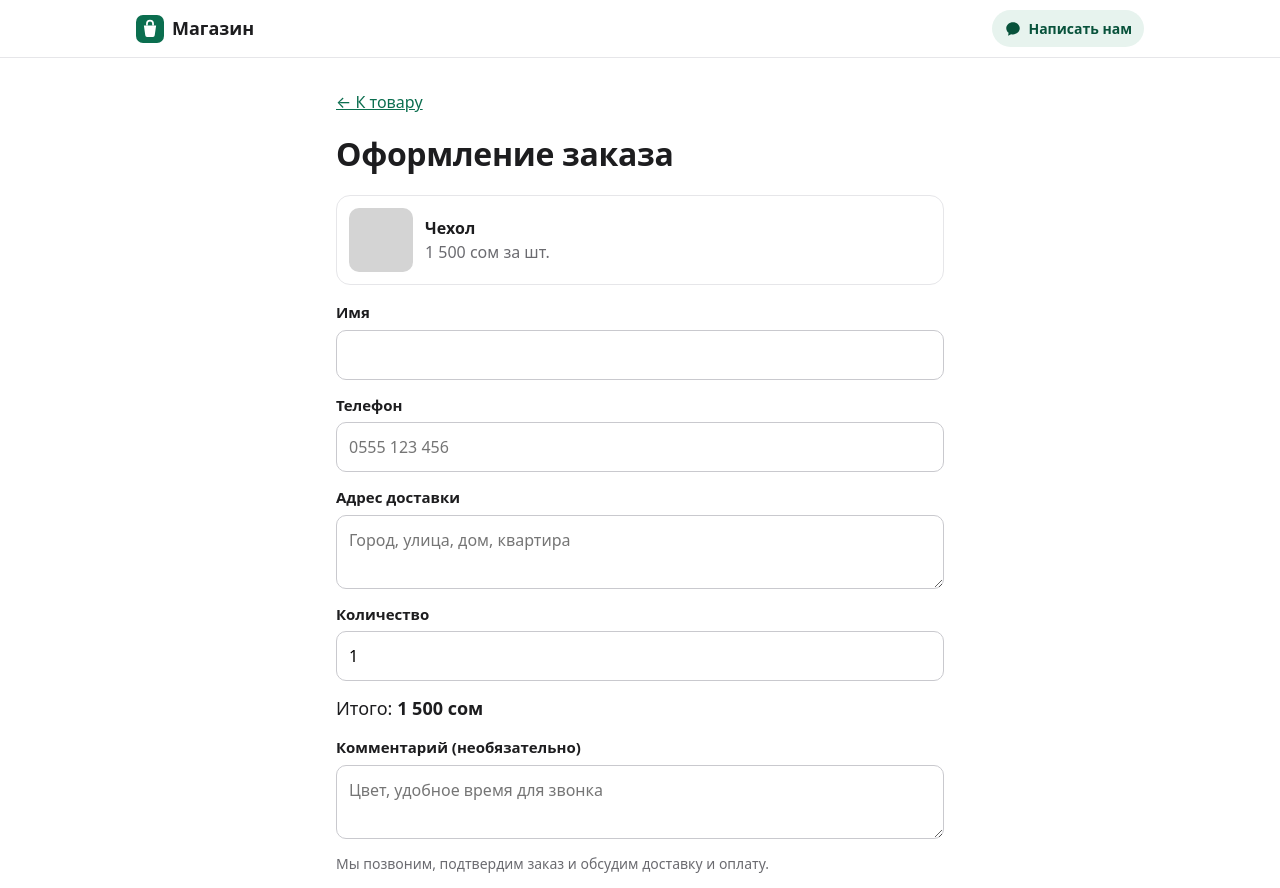
Test: итог пересчитывается при смене количества
Replace the text in the number field labelled "Количество" with "3" at coordinates (640, 656), box [336,631,944,681]
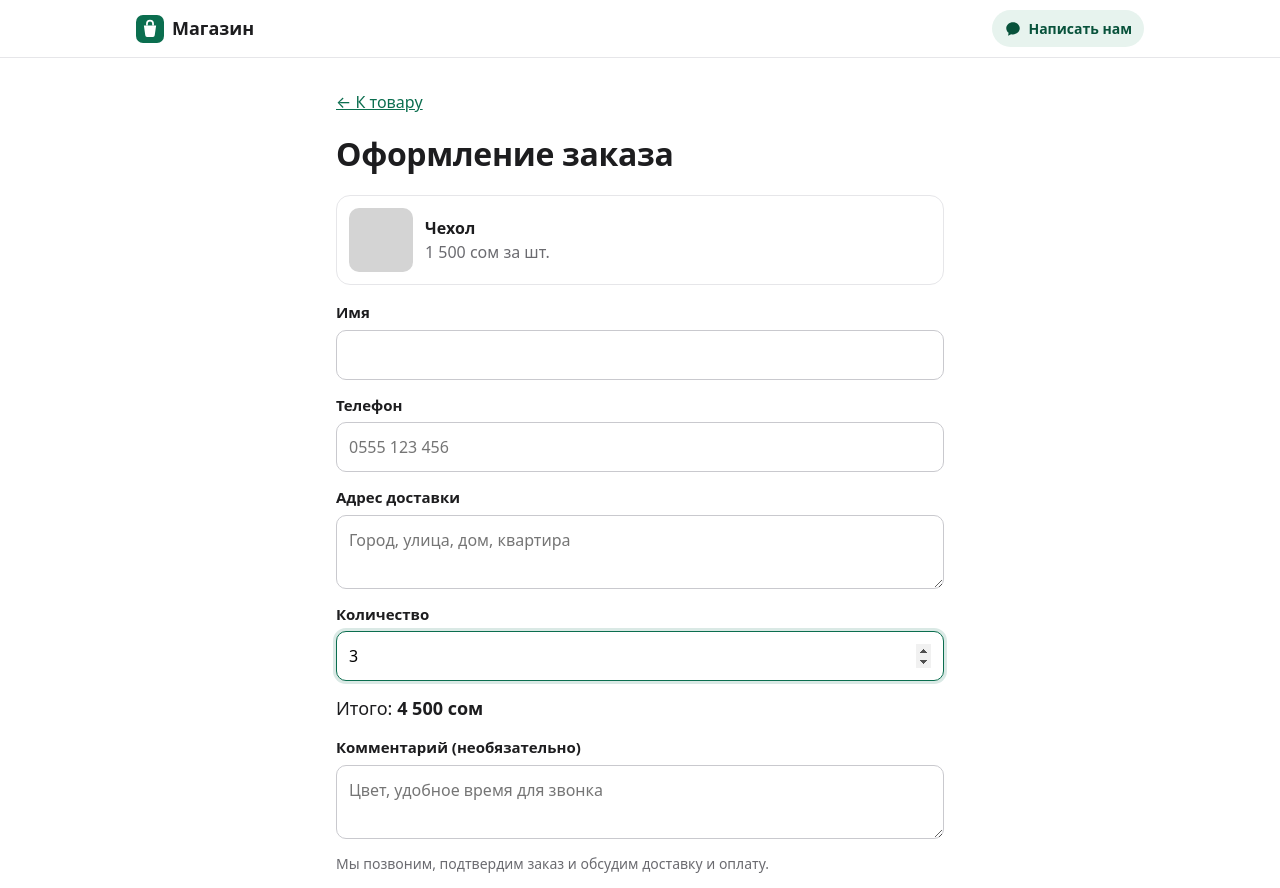
expect the text "Итого: 4 500 сом" is shown: met, box [336,696,483,720]
